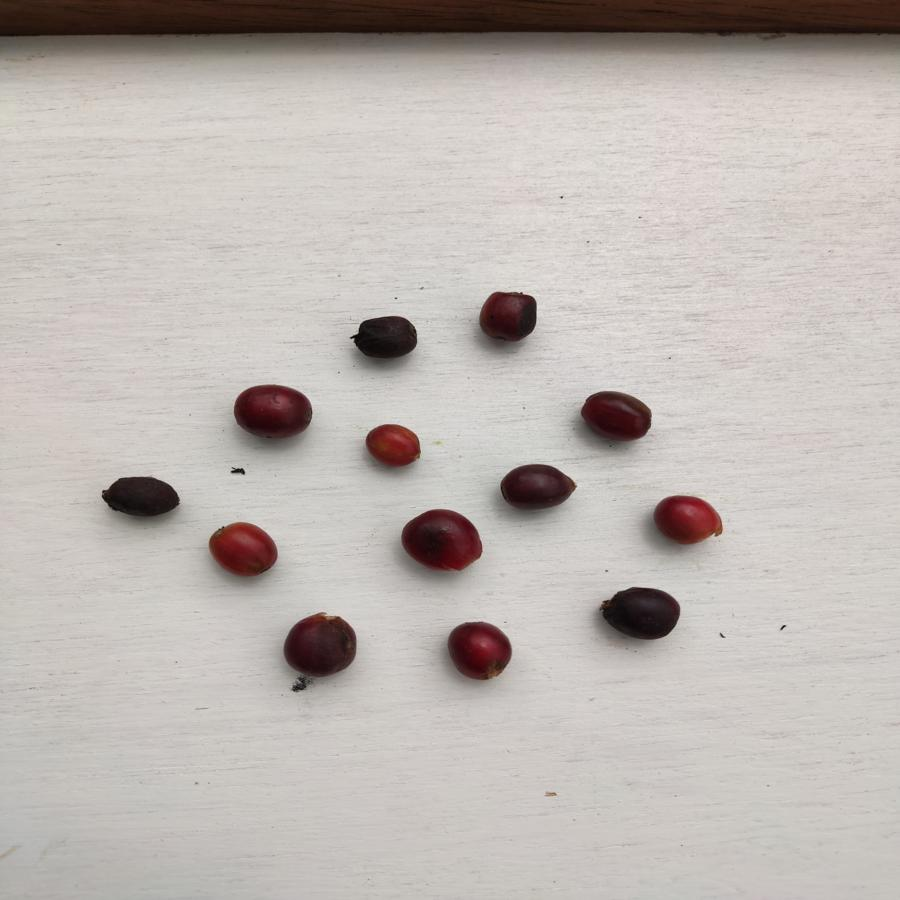Maduro: (209, 519, 278, 585), (654, 491, 721, 549), (364, 421, 424, 469)
Sobremaduro: (399, 506, 485, 577), (285, 610, 361, 681), (231, 383, 318, 443), (598, 582, 682, 643), (575, 385, 655, 445), (495, 461, 583, 515), (444, 621, 516, 683), (95, 473, 183, 521), (355, 309, 419, 369), (476, 291, 541, 342)
